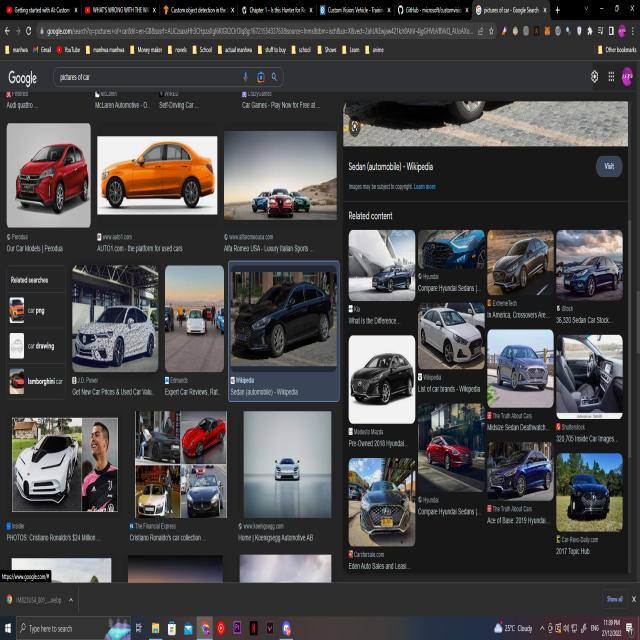car: (100, 141, 216, 211), (234, 285, 334, 362), (13, 133, 89, 215), (75, 302, 156, 366), (16, 429, 79, 507), (352, 351, 412, 412), (358, 474, 409, 542), (491, 237, 550, 292), (495, 342, 549, 399), (487, 451, 553, 496), (559, 254, 620, 297), (568, 470, 612, 523), (426, 433, 475, 478), (269, 448, 304, 488), (371, 262, 411, 296), (268, 184, 292, 220), (292, 189, 310, 215), (251, 190, 270, 213)
